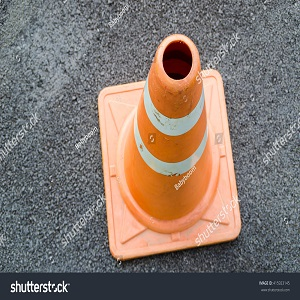traffic cone: (97, 34, 241, 260)
